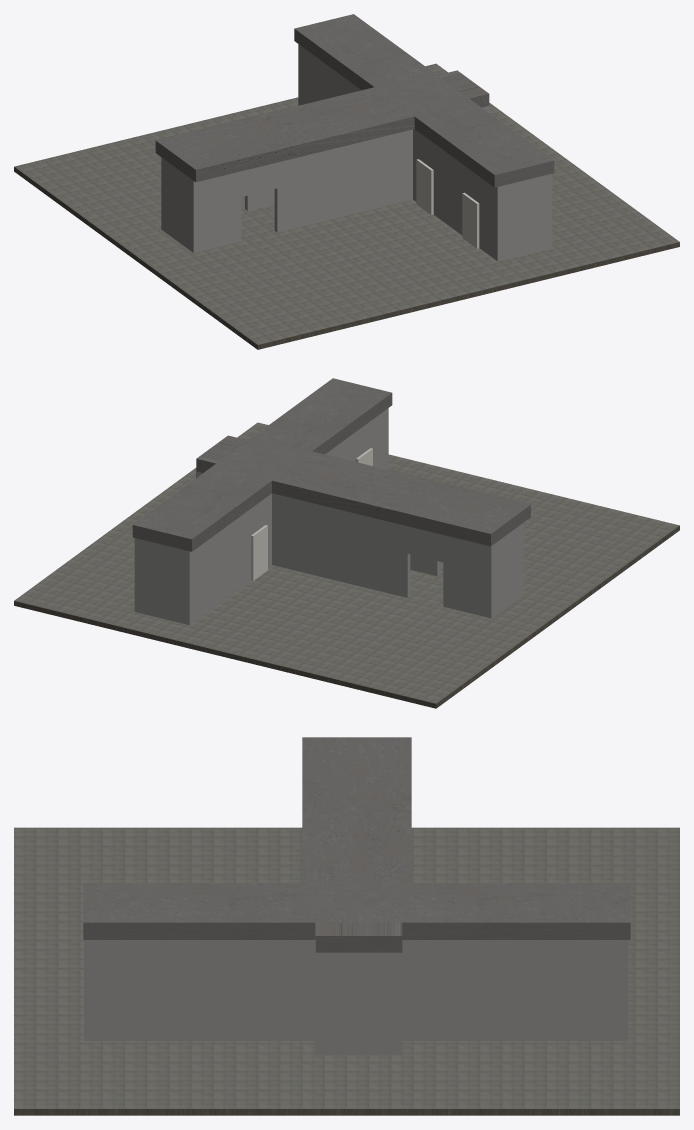
The model's file is floor3d.gltf.
3 renders of one model, top to bottom at view 1: azimuth 30°, elevation 25°; view 2: azimuth 150°, elevation 25°; view 3: azimuth 270°, elevation 25°, orthographic. The views are drawn at different scales.
Parts seen in each view (by area): view 1: Floor, Building, Cielling, zz001, zz002; view 2: Floor, Building, Cielling, zz; view 3: Floor, Building, Cielling.
Boxes of the visible parts, left/top/right/bottom form: Floor: left=14, top=63, right=679, bottom=349; Building: left=161, top=44, right=552, bottom=261; Cielling: left=155, top=14, right=554, bottom=187; zz001: left=416, top=159, right=433, bottom=215; zz002: left=462, top=192, right=479, bottom=248; Floor: left=14, top=422, right=679, bottom=708; Building: left=134, top=408, right=523, bottom=625; Cielling: left=132, top=378, right=530, bottom=551; zz: left=251, top=525, right=267, bottom=580; Floor: left=14, top=827, right=679, bottom=1115; Building: left=84, top=939, right=628, bottom=1055; Cielling: left=83, top=737, right=630, bottom=952.
Size of the model in its own units: 20 by 4.17 by 20.
6 materials, 5 textured.
